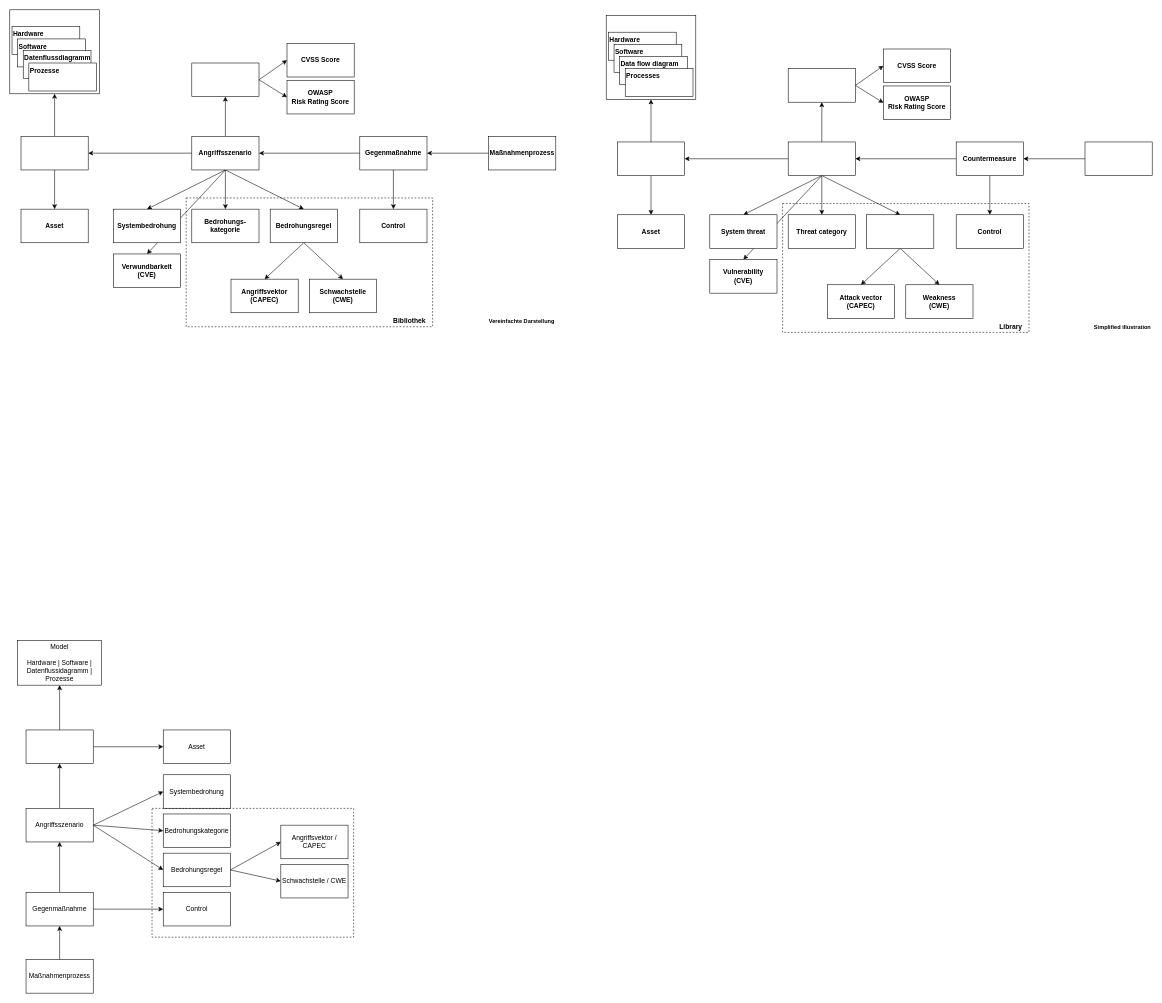
The diagram is 1162 pixels wide and 1003 high, and some of its shapes have lost their labels. Each missing label, with the box of its shape:
Attack scenario: (788, 141, 855, 176)
Element / Target: (617, 141, 685, 176)
Element / Ziel: (20, 136, 88, 170)
Element(e) / Ziel(e): (25, 729, 93, 764)
Mitigation process: (1084, 141, 1152, 176)
Model: (606, 15, 696, 99)
Modell: (9, 9, 99, 94)
Risiko: (191, 62, 259, 97)
Risk: (788, 68, 855, 102)
Threat rule: (866, 214, 934, 248)
